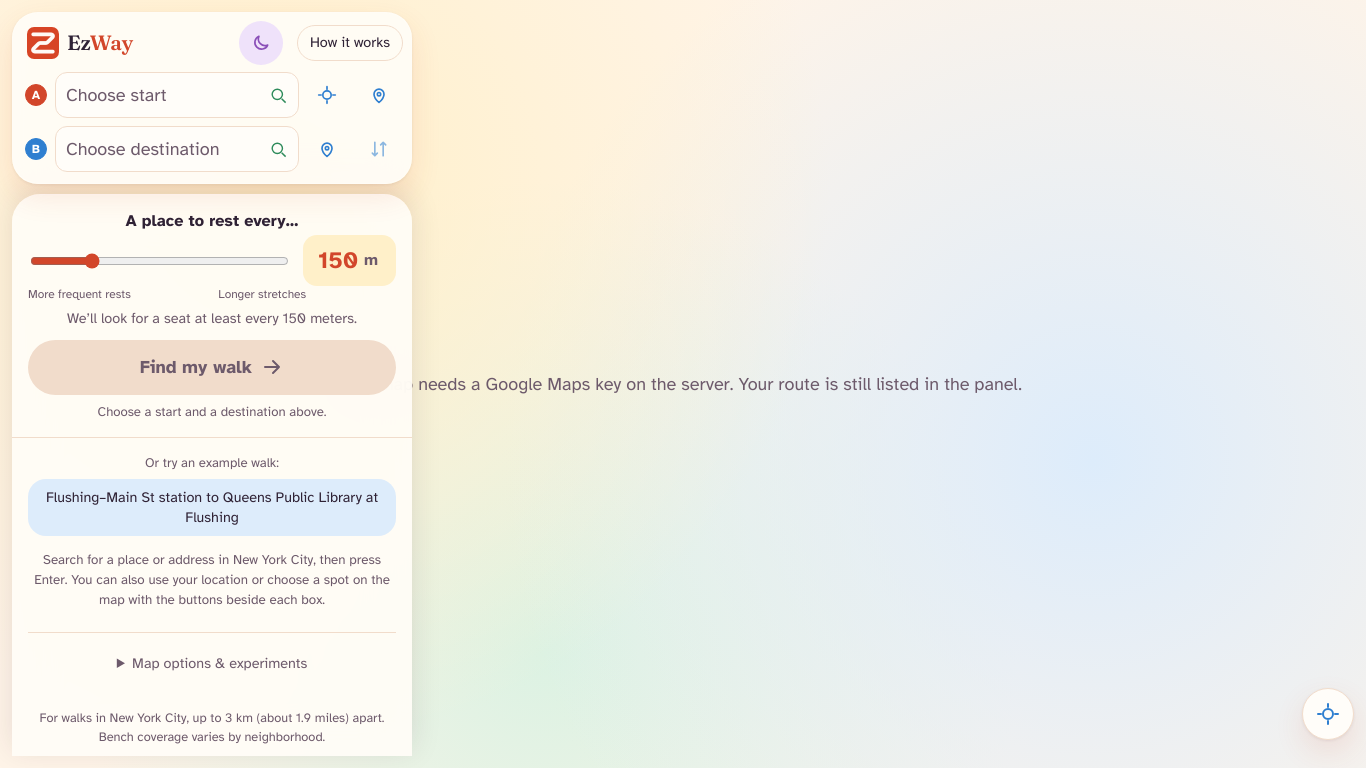
App › failed real data loading never switches to fictional seats
Type "Boston" into the dropdown named "From".
click(157, 95); type("Boston")  # box [56,73,258,117]
Then press Enter
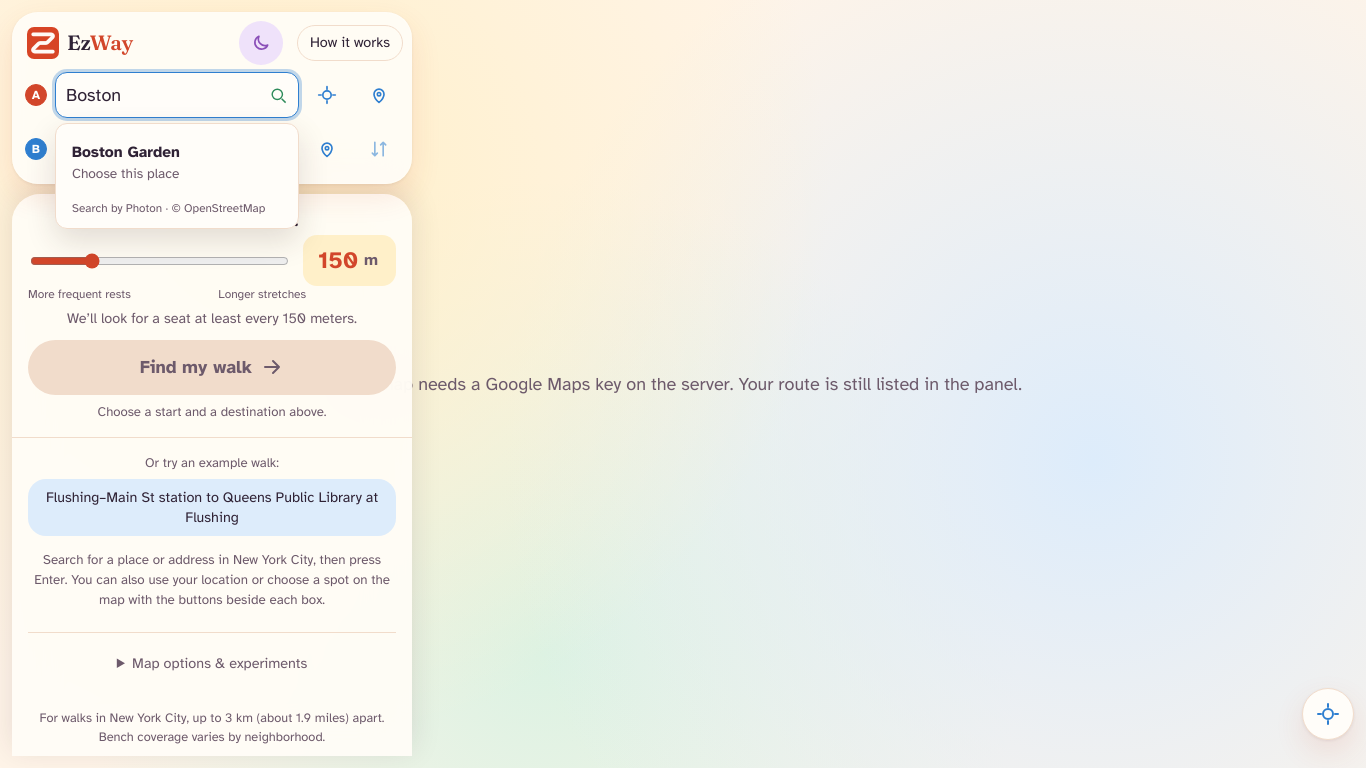
Click the button "Boston Garden Choose this place".
click(177, 162)  # box [62,130,292,195]
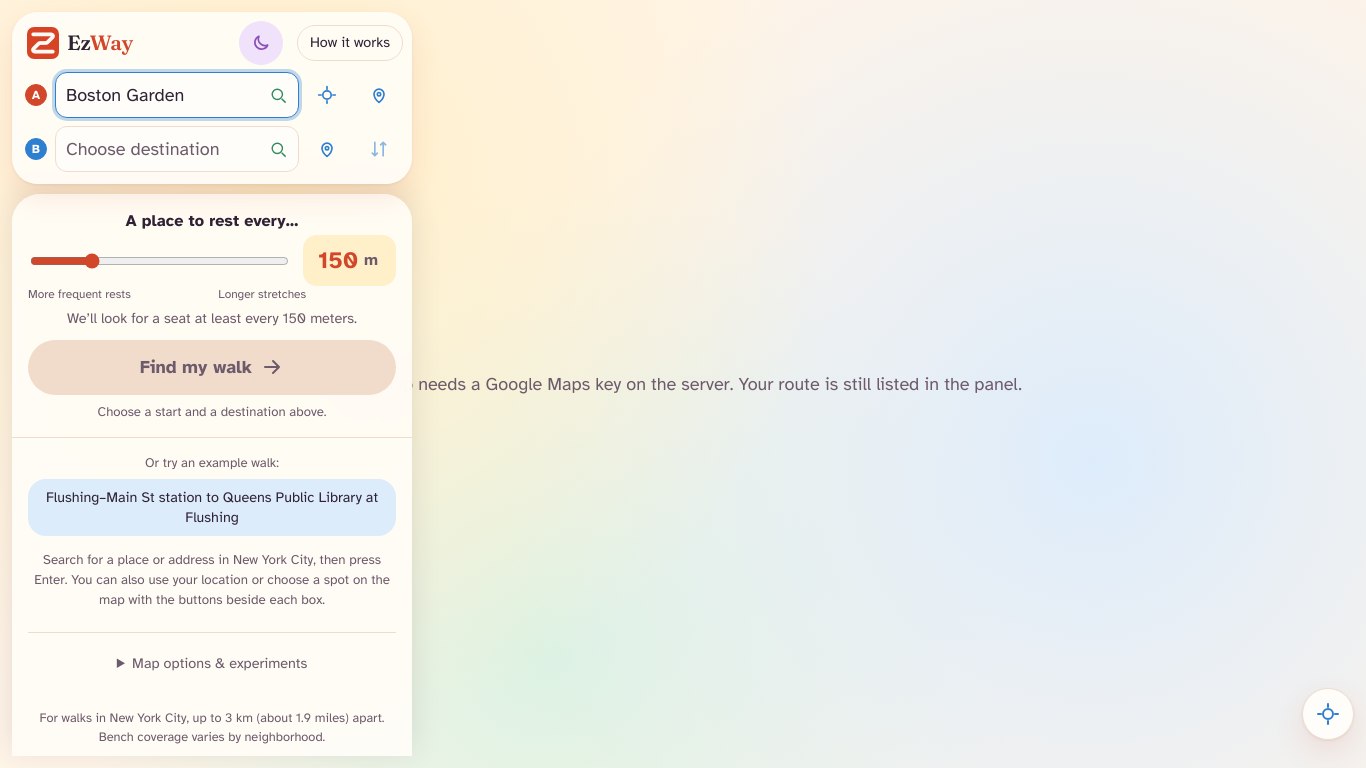
Type "Boston" into the dropdown named "To".
click(157, 149); type("Boston")  # box [56,127,258,171]
Then press Enter
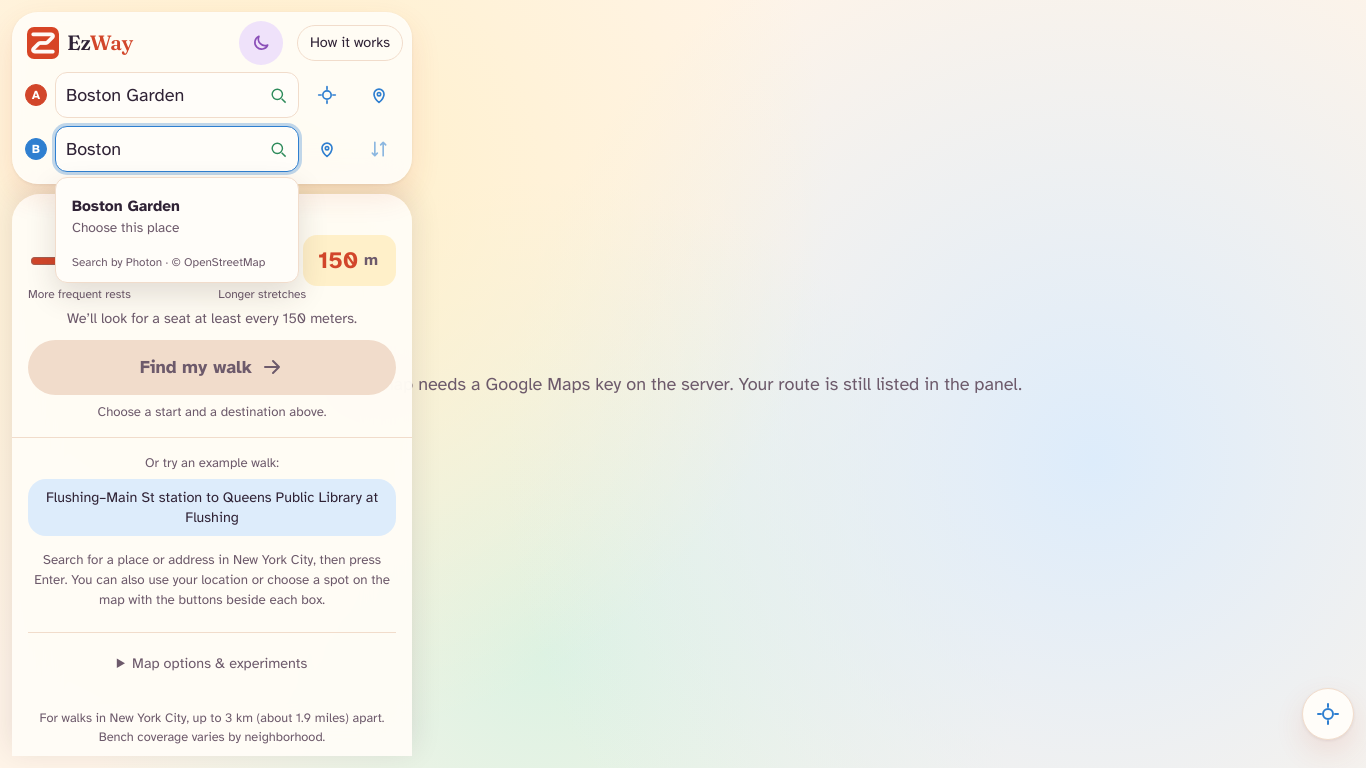
Click the button "Boston Garden Choose this place".
click(177, 216)  # box [62,184,292,249]
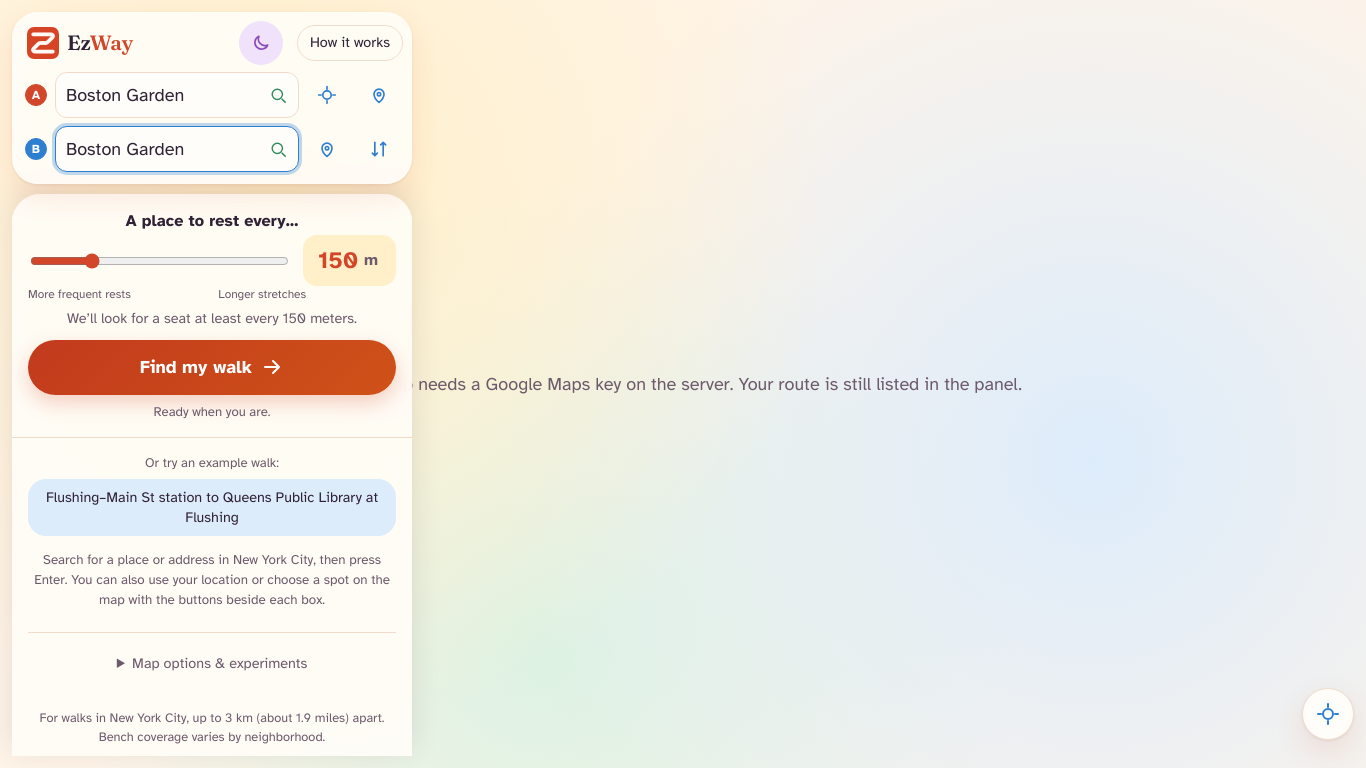
Click the button "Find my walk".
click(212, 367)  # box [28,340,396,395]
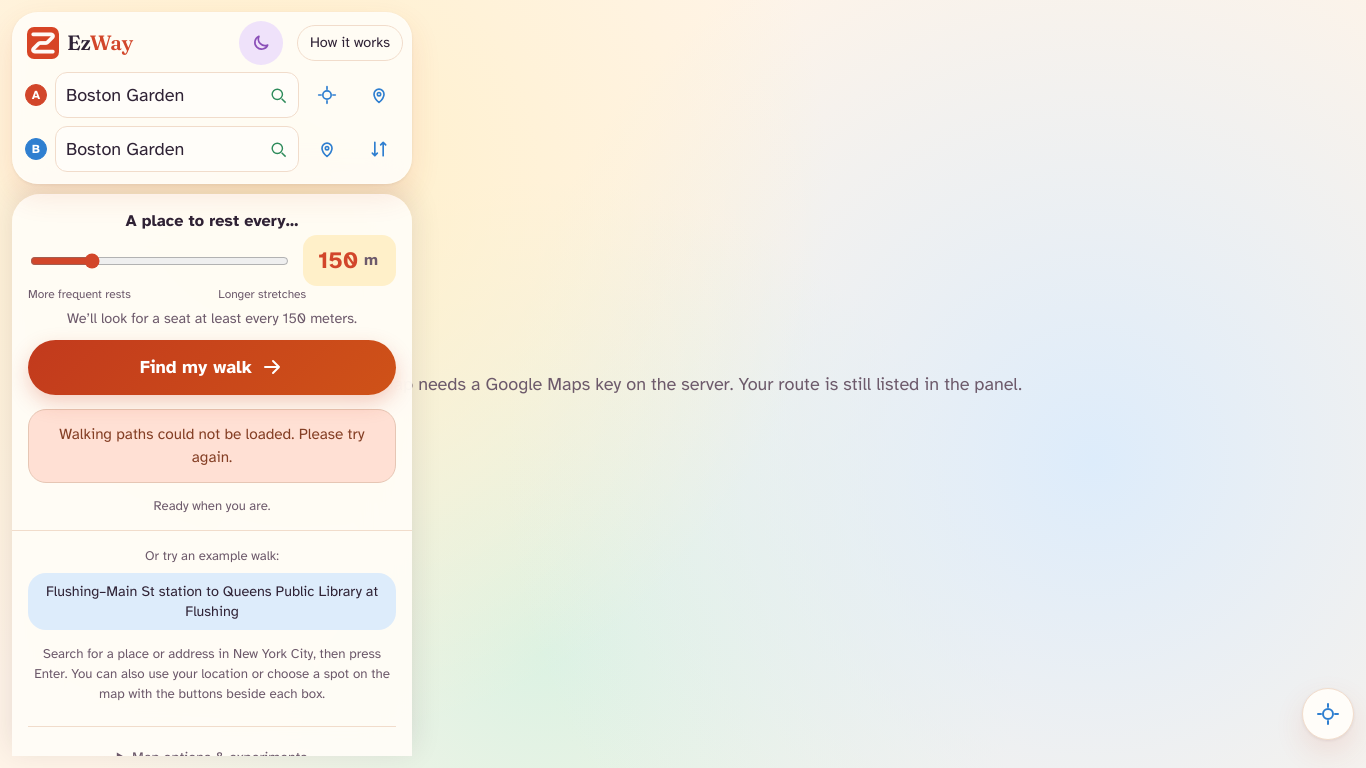
Check: the message "Walking paths could not be loaded. Please try again." is shown, box [28,409,396,483]
